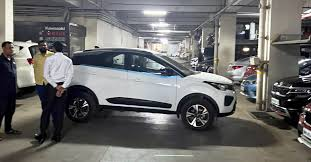Tata Nexon: (62, 46, 239, 133)
